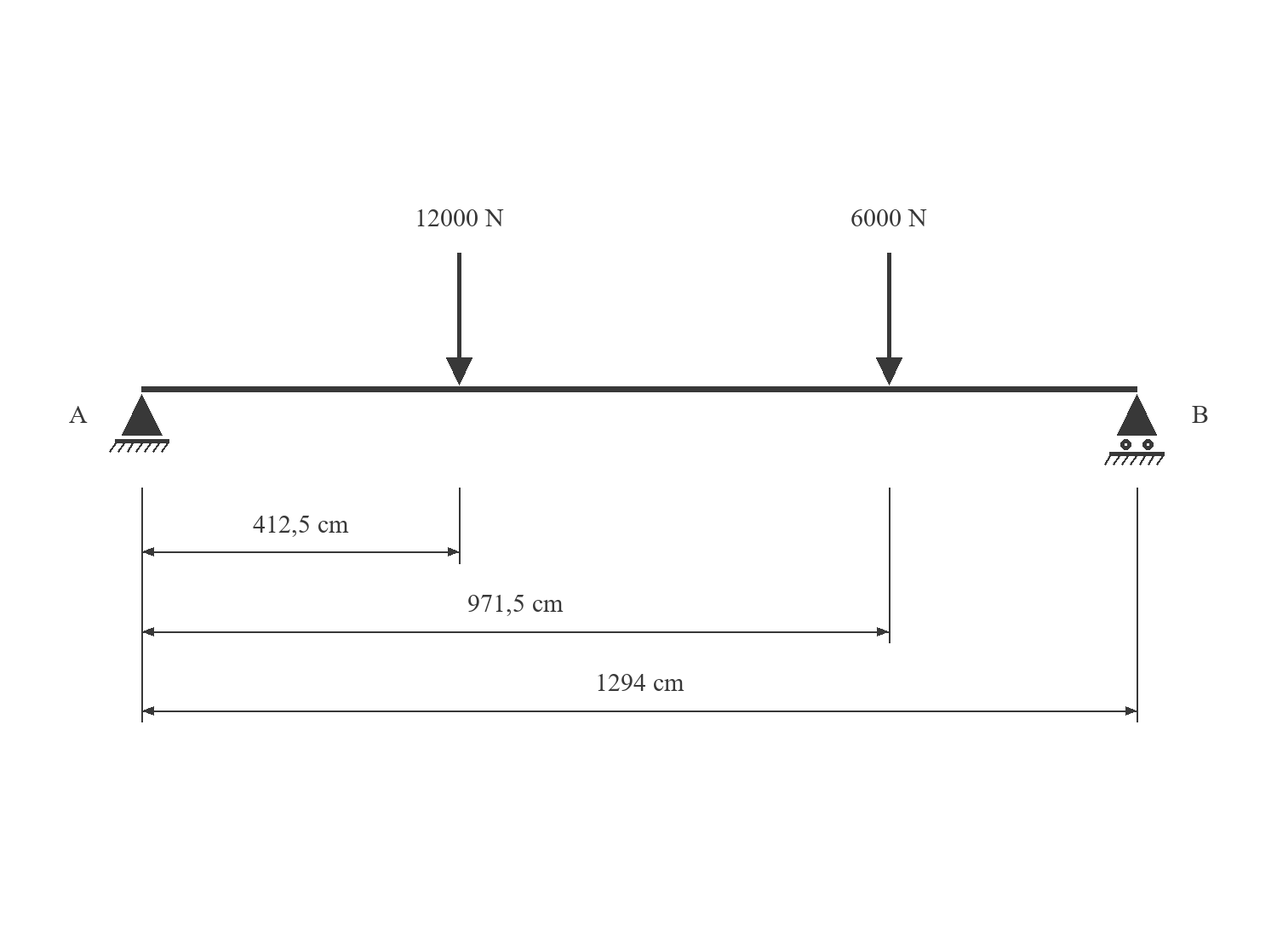pin_support: (109, 394, 169, 453)
point_load: (446, 253, 472, 385), (876, 253, 902, 385)
roller_support: (1104, 394, 1165, 465)
